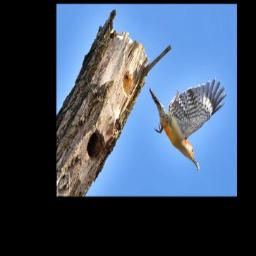Woodpecker: (149, 77, 228, 172)
